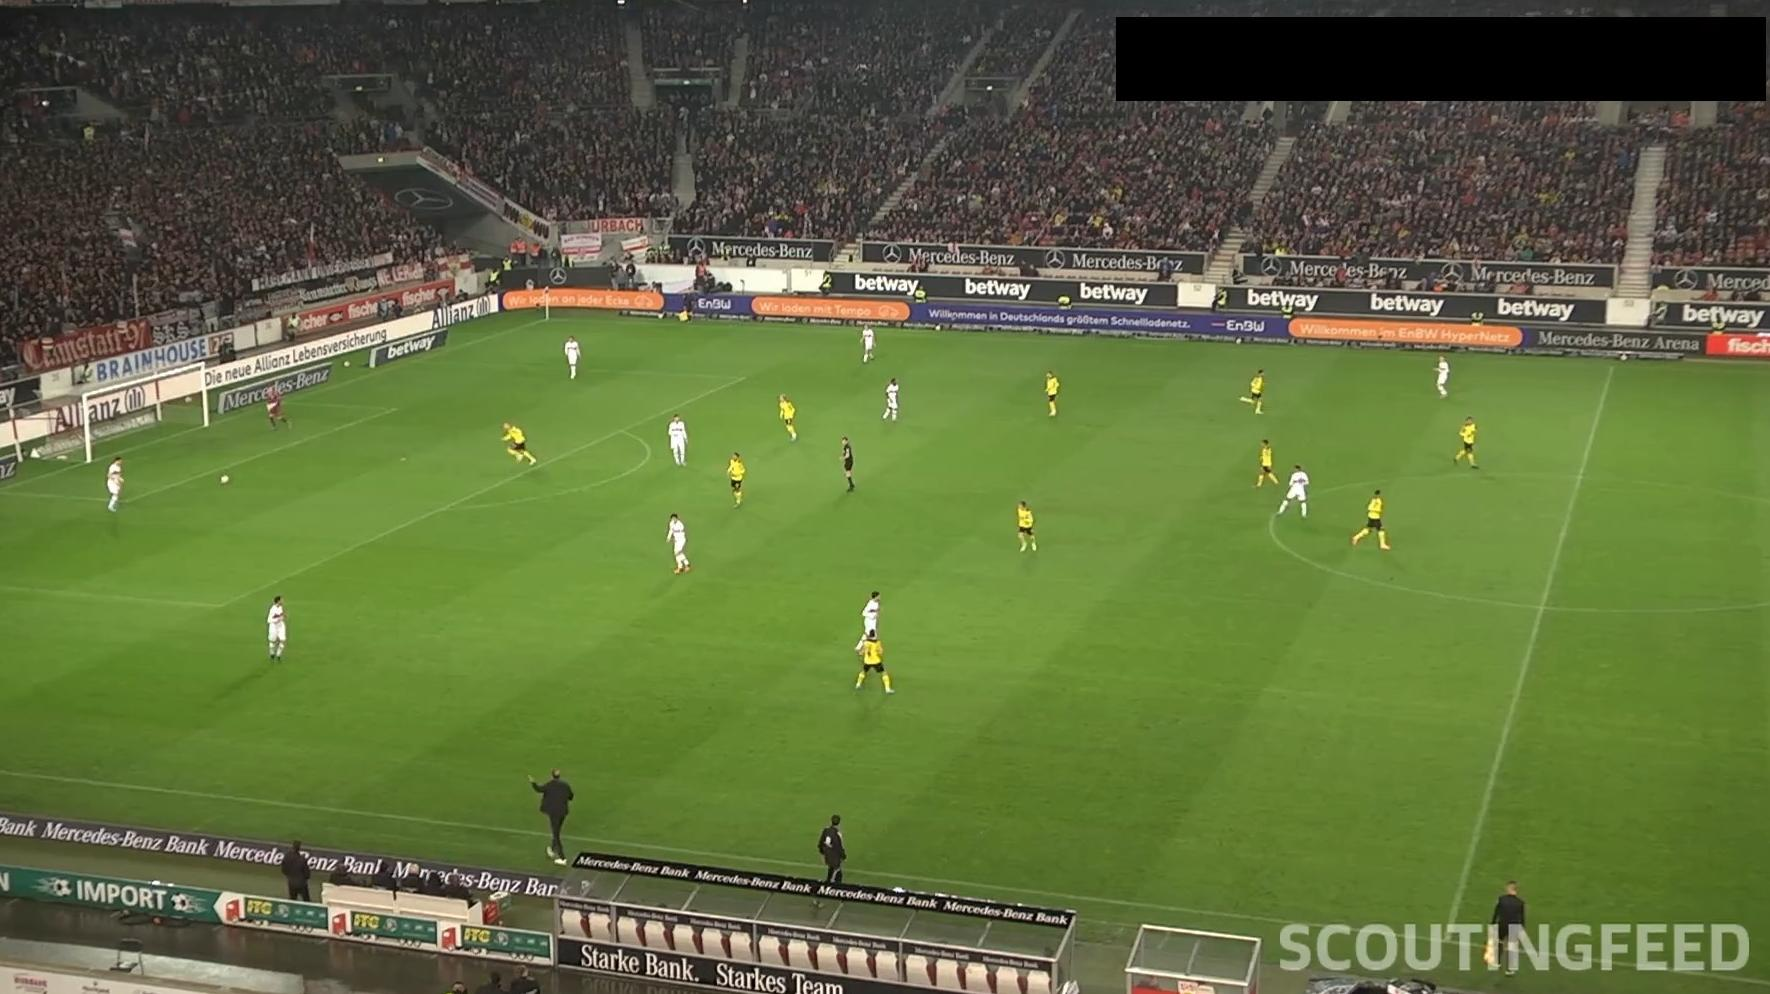ball: (220, 474, 230, 485)
